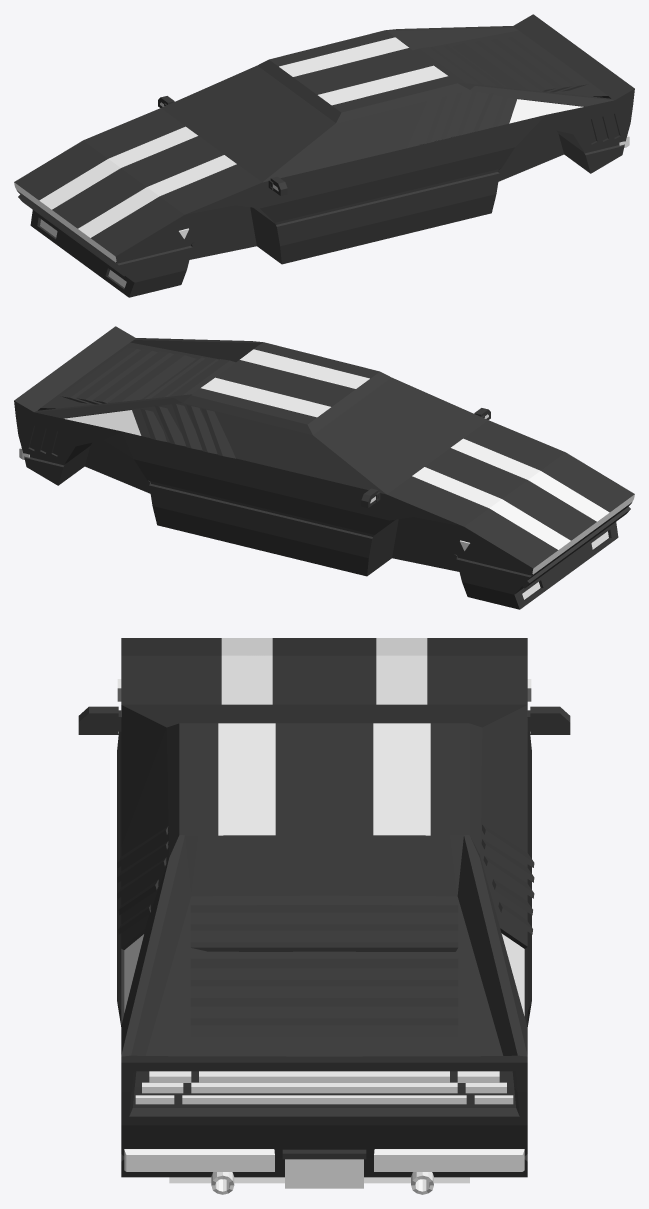
Rendered from car_D_body.fbx.
3 renders of one model, top to bottom at view 1: azimuth 30°, elevation 25°; view 2: azimuth 150°, elevation 25°; view 3: azimuth 270°, elevation 25°, orthographic. The views are drawn at different scales.
Parts seen in each view (by area): view 1: Futuristic2; view 2: Futuristic2; view 3: Futuristic2.
Part boxes in pixels (bbox=[...]): Futuristic2: bbox=[14, 14, 634, 297]; Futuristic2: bbox=[14, 326, 634, 609]; Futuristic2: bbox=[78, 638, 570, 1194].
Bounding box in the file's own units: 1725 × 406 × 707.
